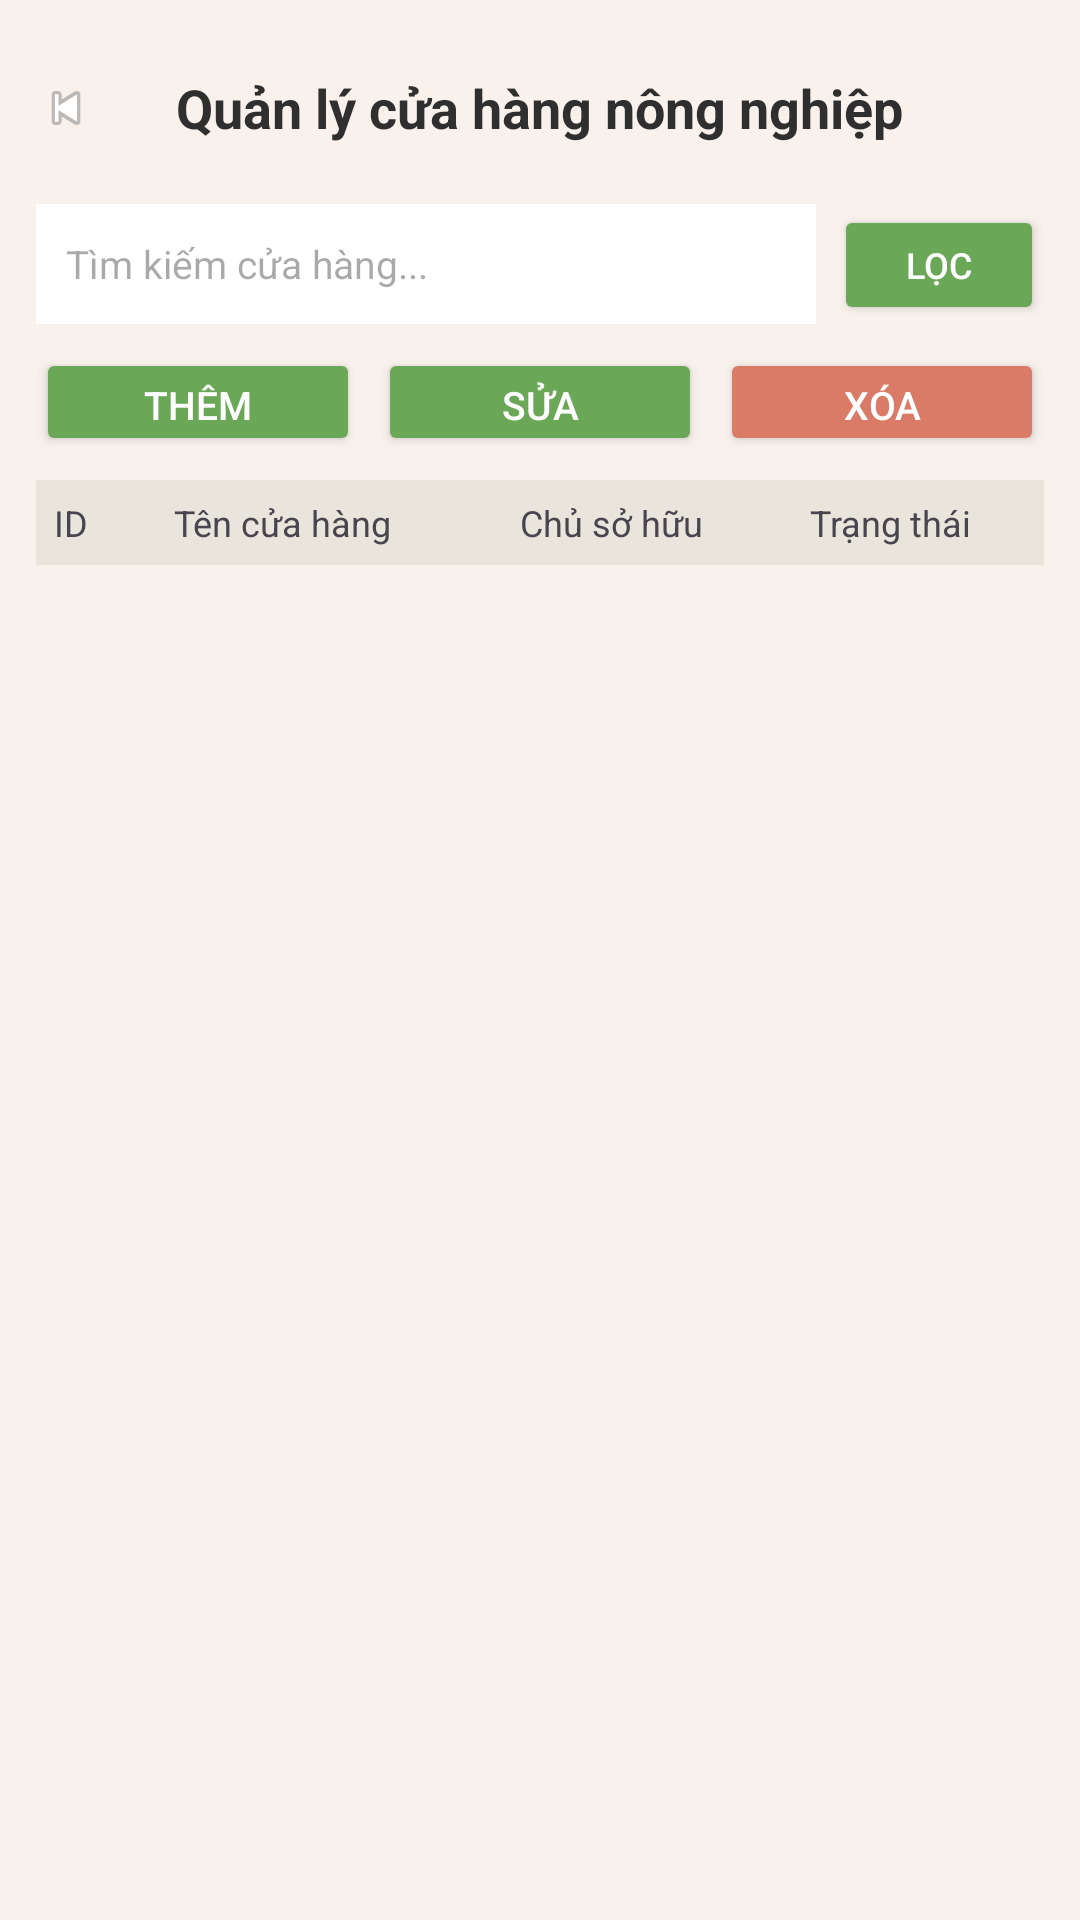

Screen size 1080 x 1920. Icon name, then its center in pixels as (x,y):
previous: (66,108)
